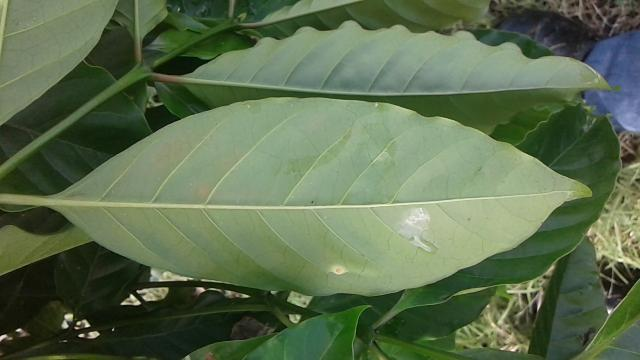rust_level_1: (42, 97, 592, 294)
